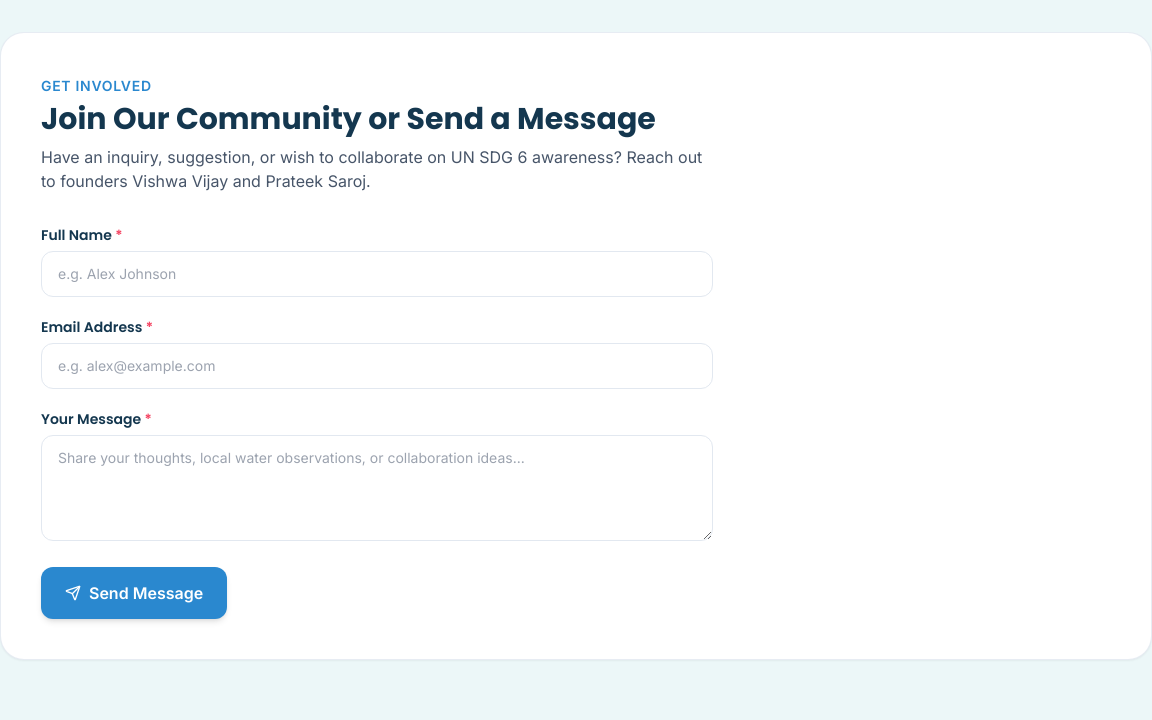
ContactForm Component › submits valid form data to api
Type "Alex Smith" into the field labelled "Full Name *" at [377, 274], box [41,251,713,297]
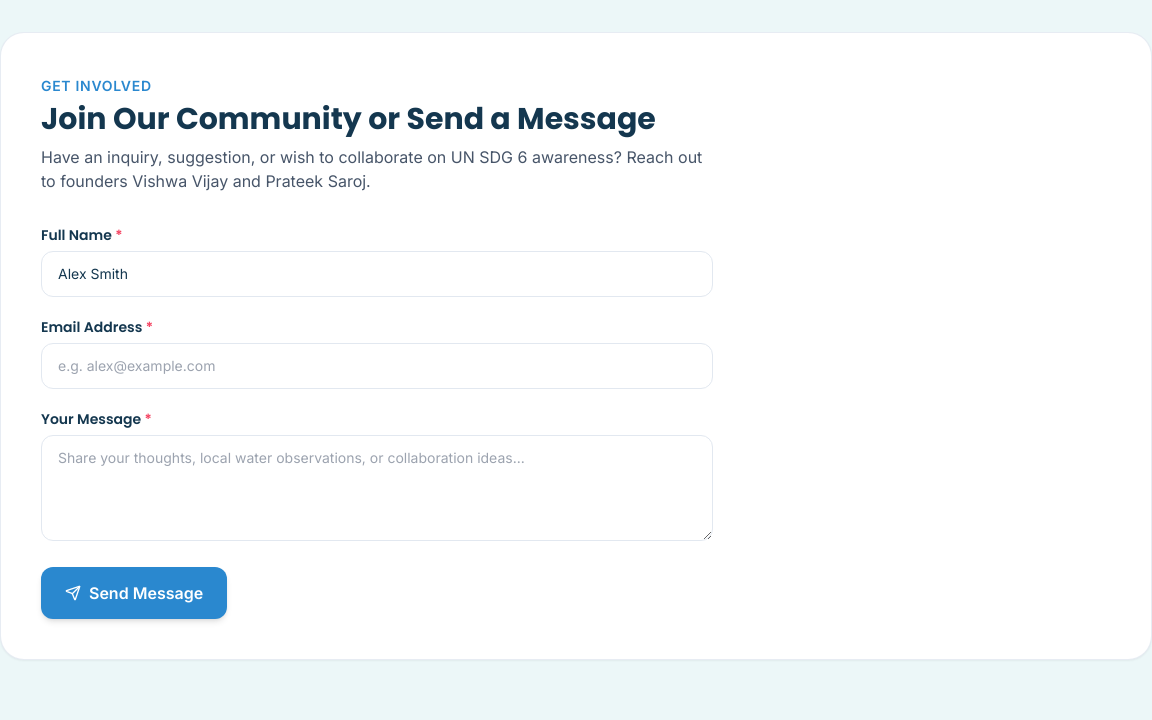
Type "alex@example.org" into the field labelled "Email Address *" at [377, 366], box [41,343,713,389]
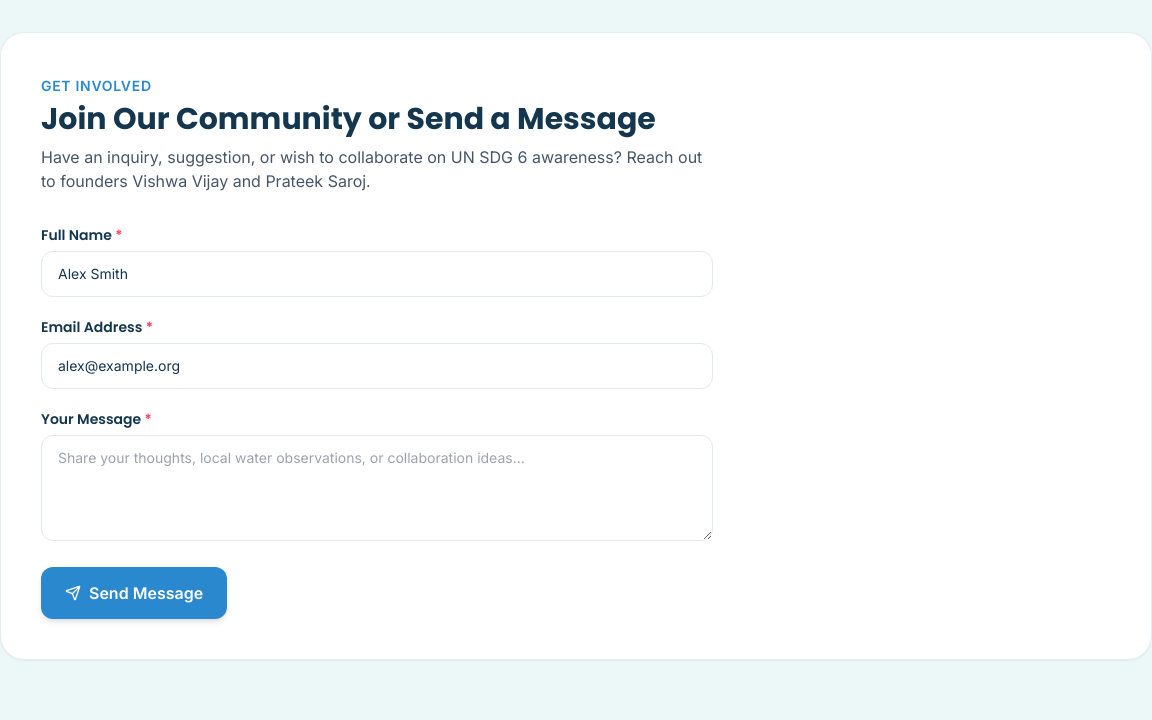
Replace the text in the text box labelled "Your Message *" with "This is a detailed message expressing support for UN SDG 6." at [377, 488], box [41,435,713,541]
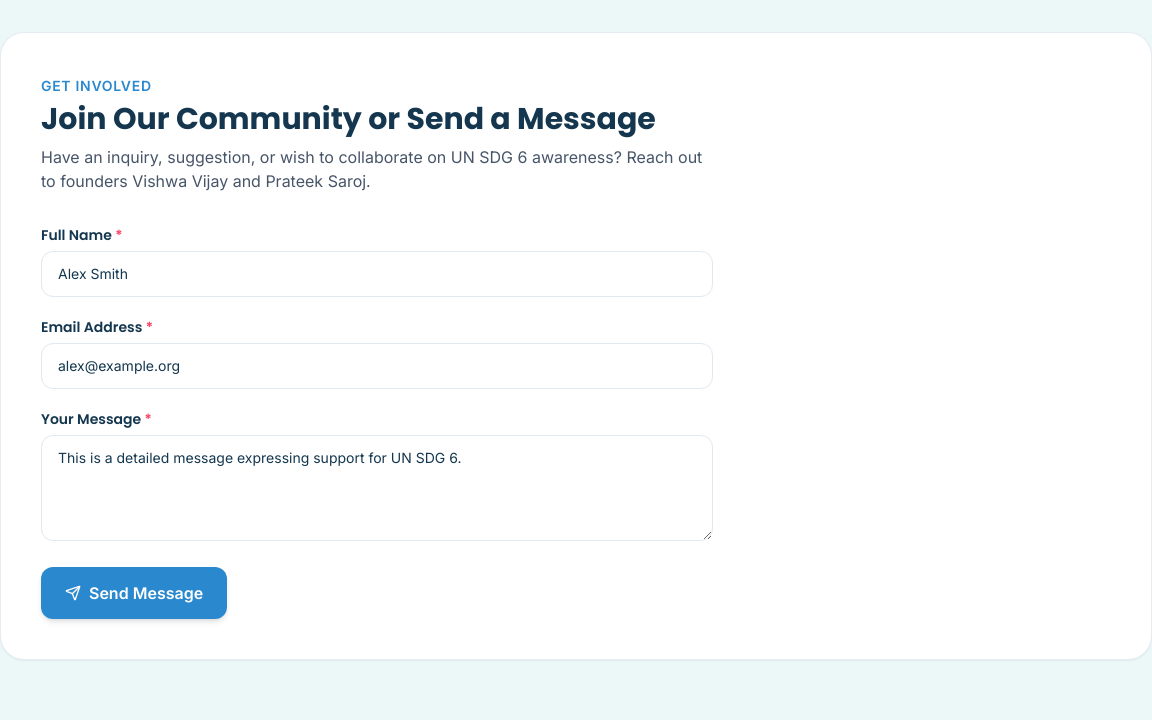
Click the button "Send Message" at [134, 593], box [41,567,227,619]
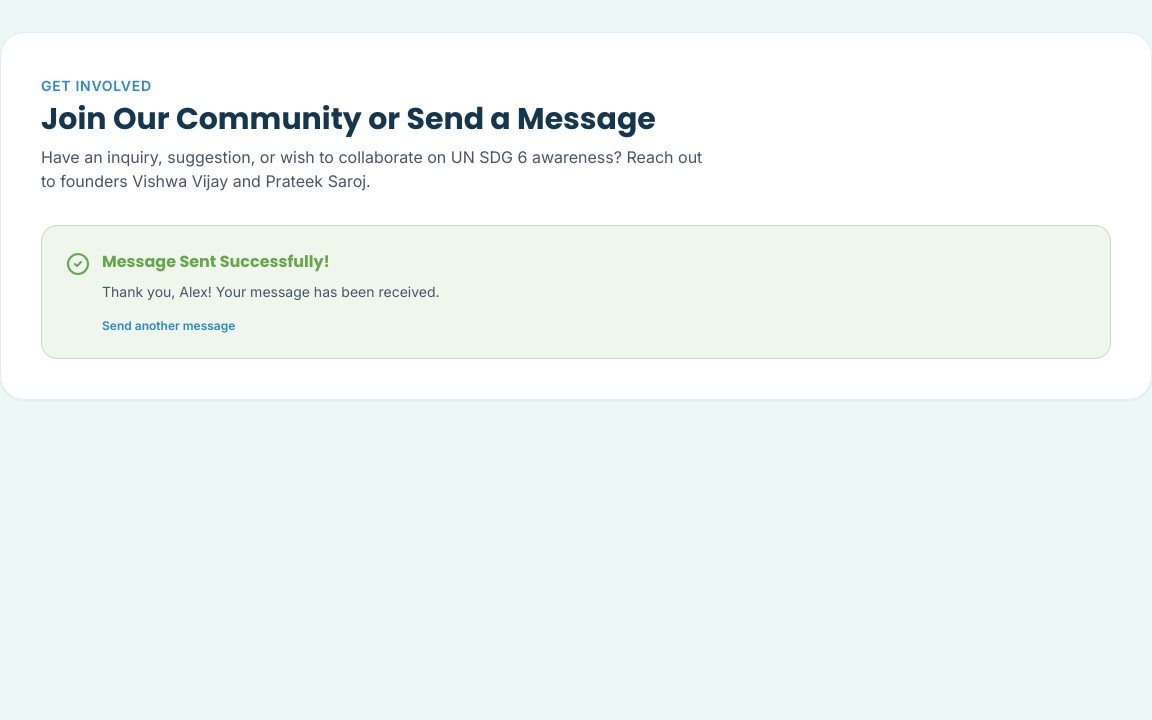
Now the heading "Message Sent Successfully!" is shown, box [102,250,330,273]
